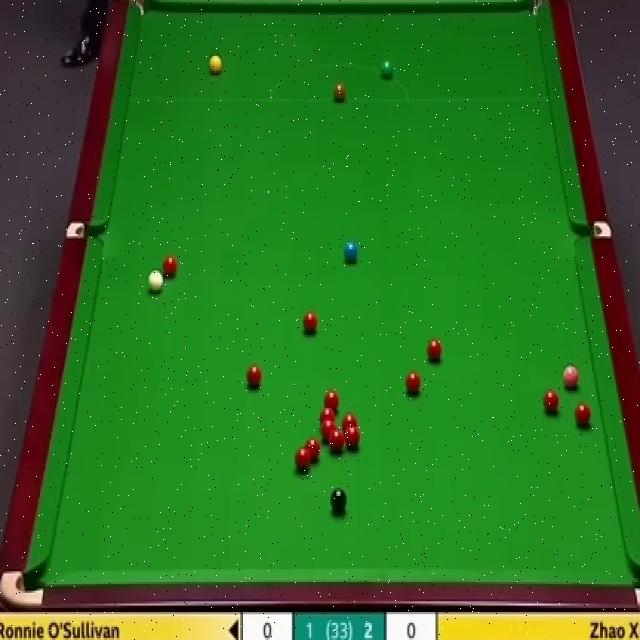black-ball: (330, 486, 347, 517)
blue-ball: (343, 240, 359, 262)
brown-ball: (332, 81, 347, 103)
green-ball: (379, 60, 394, 80)
pink-ball: (563, 363, 579, 390)
red-ball: (246, 363, 264, 392), (294, 447, 312, 474), (305, 440, 323, 466), (544, 389, 562, 415), (574, 403, 593, 427), (344, 426, 361, 452), (404, 371, 421, 397), (427, 337, 443, 364), (302, 312, 319, 335), (162, 256, 177, 281), (329, 428, 344, 453), (322, 390, 340, 408), (320, 420, 336, 440), (320, 406, 335, 424), (342, 415, 357, 429)
white-ball: (148, 268, 164, 295)
yellow-ball: (209, 55, 224, 77)
